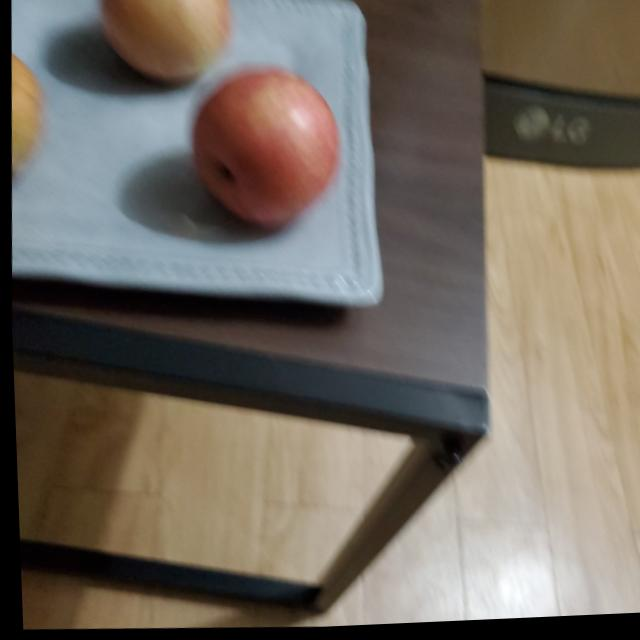apple: (187, 61, 347, 234), (94, 0, 236, 90), (5, 34, 52, 213)
